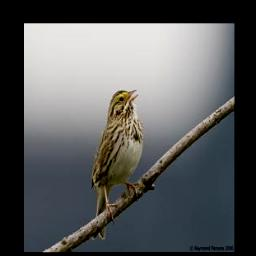Sparrow: (90, 86, 142, 242)
